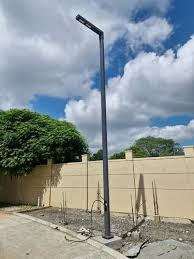light_pole: (95, 33, 112, 242)
